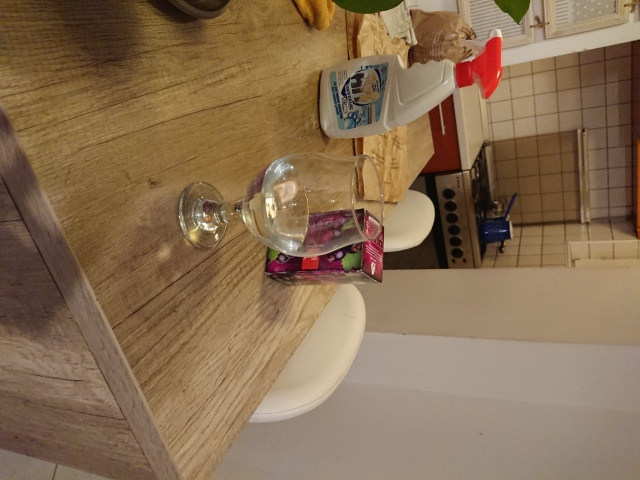Franck Black Currant Tea 60g: (261, 205, 387, 289)
